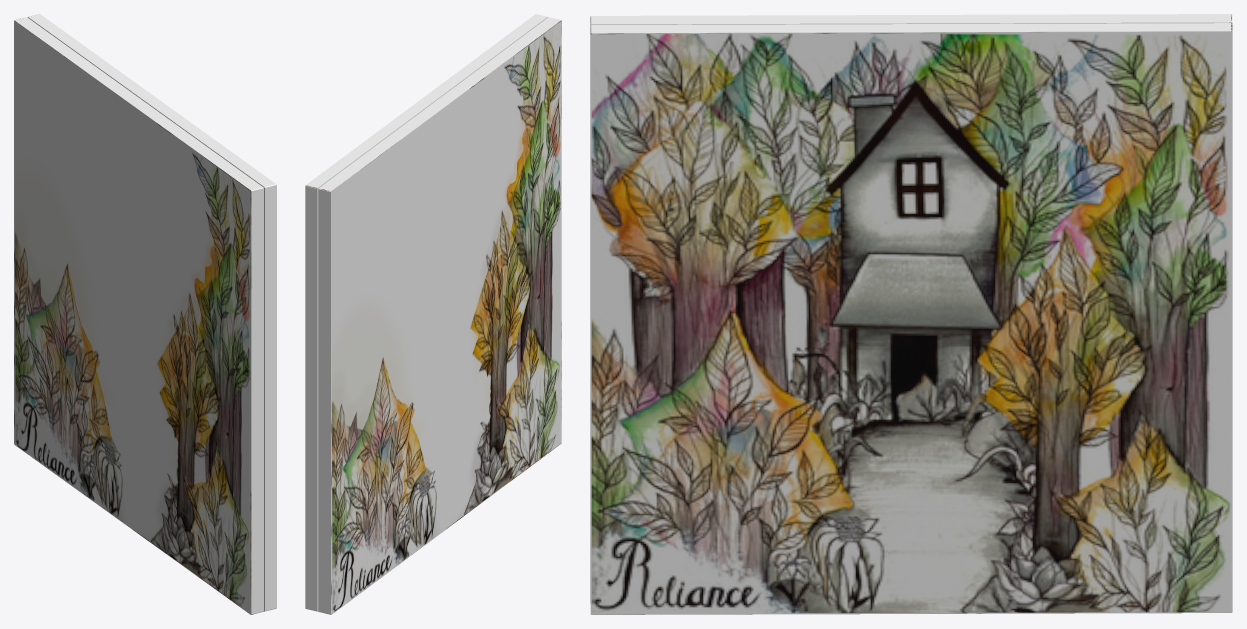
File: reliance_cd3.glb
3 views of the same model, side by side, from view 1: azimuth 30°, elevation 25°; view 2: azimuth 150°, elevation 25°; view 3: azimuth 270°, elevation 25° (orthographic). The views are drawn at different scales.
Parts seen in each view (by area): view 1: Cube; view 2: Cube; view 3: Cube.
Part boxes in pixels (x1=…): Cube: x1=14, y1=14, x2=276, y2=614; Cube: x1=305, y1=14, x2=561, y2=614; Cube: x1=590, y1=14, x2=1232, y2=614.
Bounding box in the file's own units: 0.1419 × 2 × 2.
Materials: 1 (1 with a texture image).
